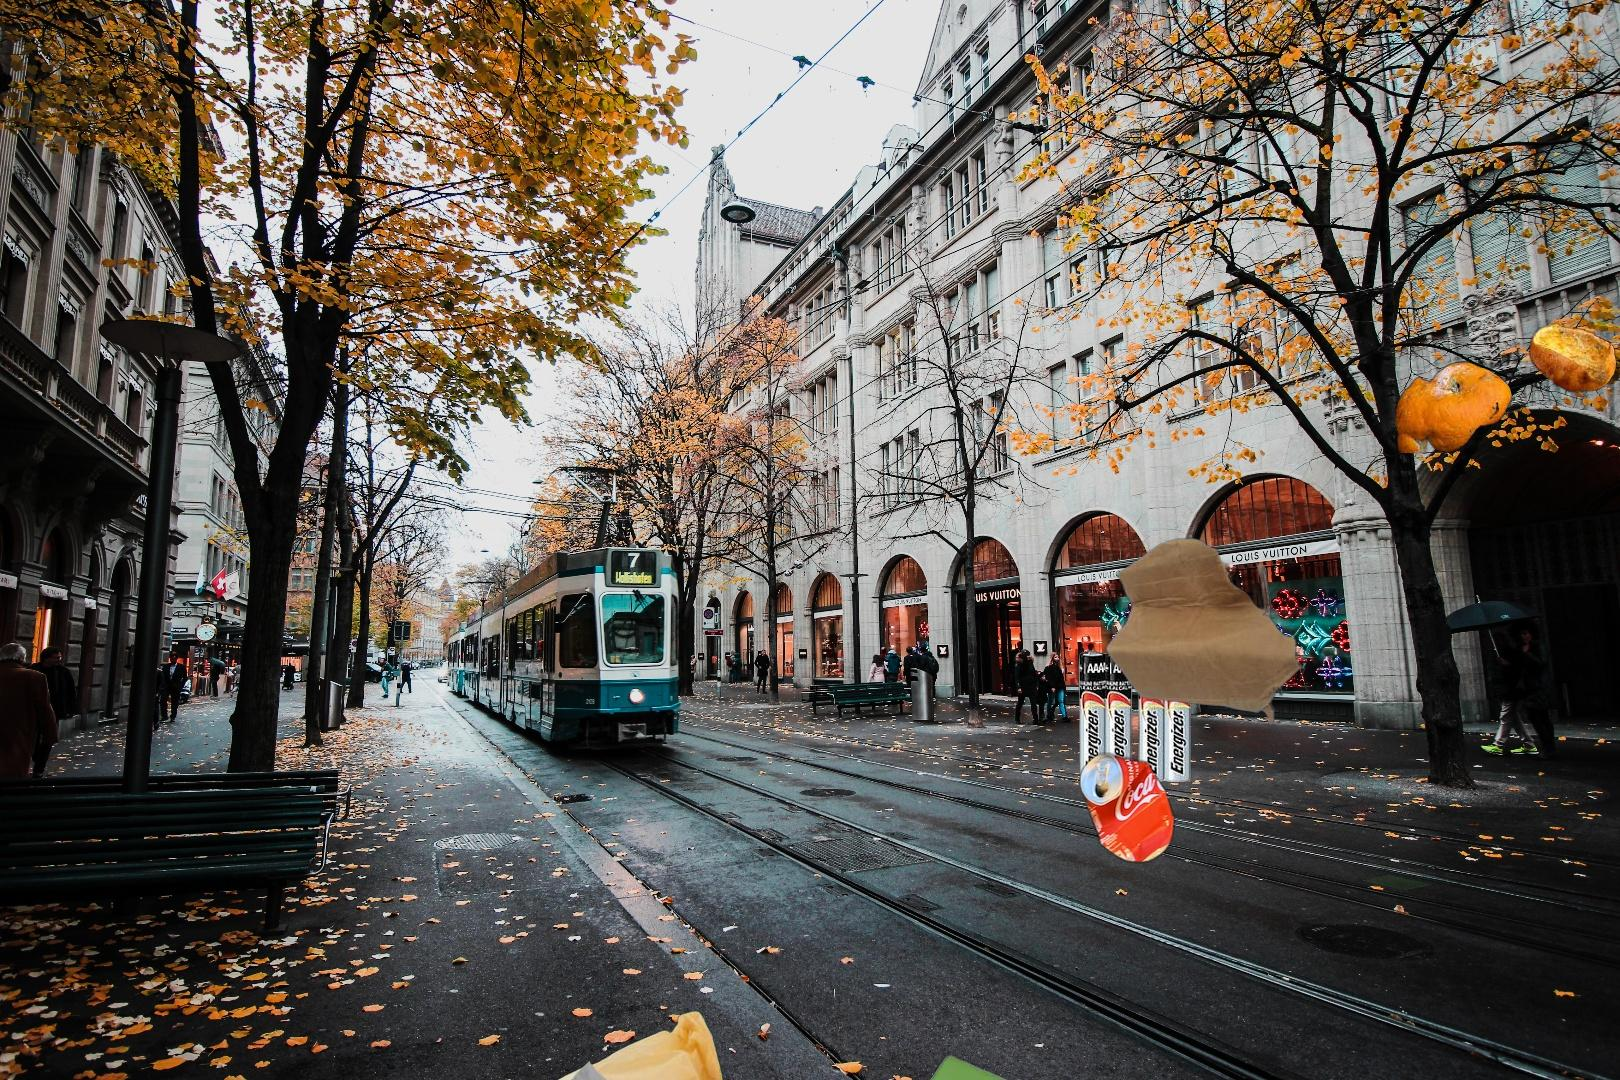battery: (1076, 646, 1195, 785), (904, 1052, 1094, 1080)
biological: (1395, 321, 1620, 453)
metal-cans: (1075, 749, 1178, 869)
plastic-bag: (538, 1009, 727, 1080)
trashbox-cardboard: (1102, 538, 1310, 728)
